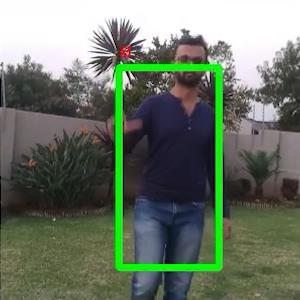land_hand: (107, 96, 143, 137)
